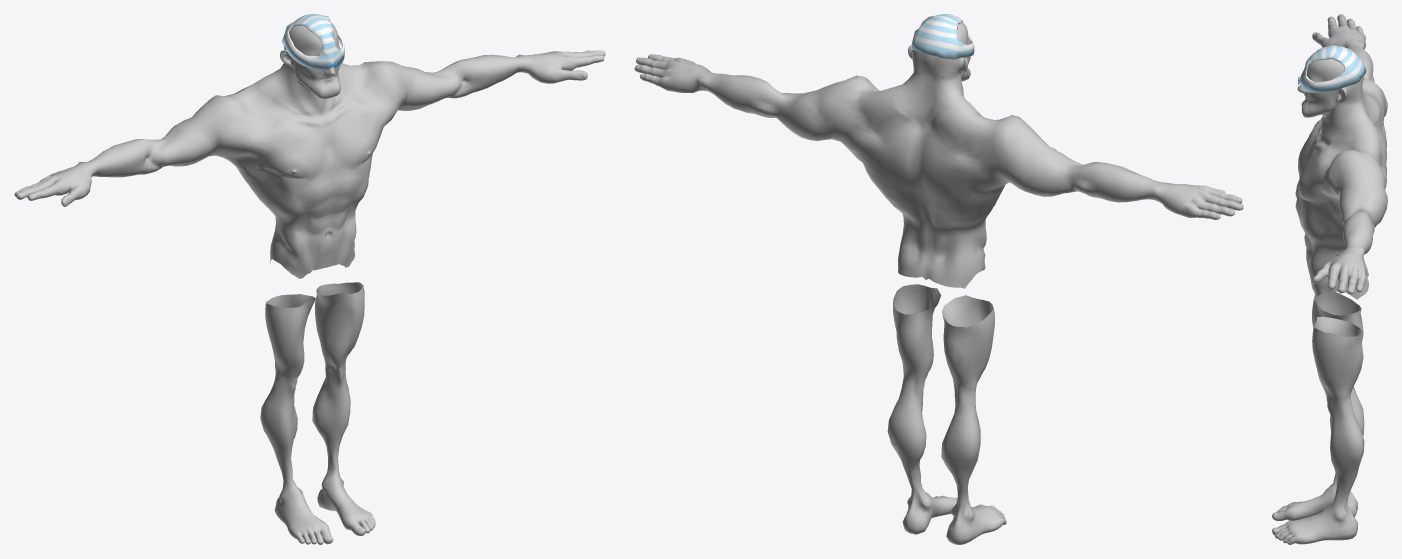
The model's file is helment.fbx.
3 views of the same model, side by side, from view 1: azimuth 30°, elevation 25°; view 2: azimuth 150°, elevation 25°; view 3: azimuth 270°, elevation 25° (orthographic). The views are drawn at different scales.
Visible parts, largest first — view 1: RL_G6_Body, Panty; view 2: RL_G6_Body, Panty; view 3: RL_G6_Body, Panty.
Part boxes in pixels (x1,y1,x2,y2): RL_G6_Body: [14, 22, 605, 544]; Panty: [281, 14, 344, 70]; RL_G6_Body: [634, 22, 1243, 544]; Panty: [911, 14, 974, 59]; RL_G6_Body: [1272, 14, 1387, 544]; Panty: [1299, 44, 1366, 92].
Size of the model in its own units: 2.13 by 1.73 by 0.3782.
